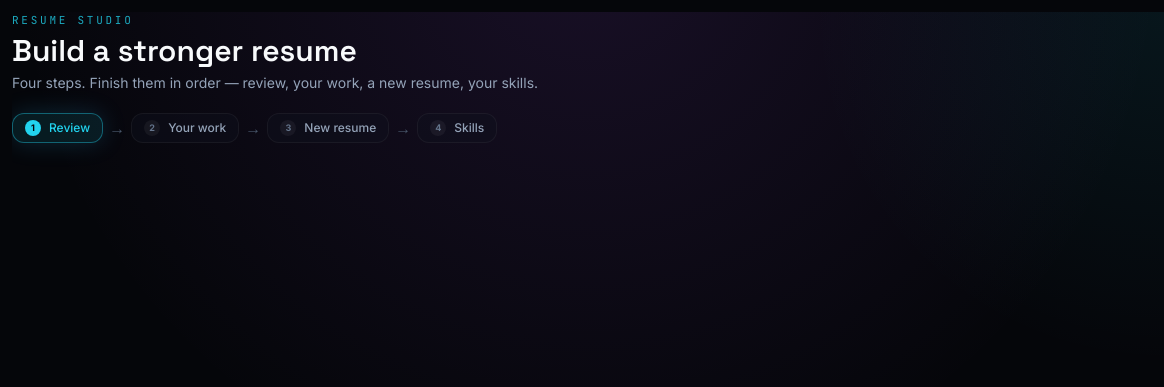
ResumePage › navigates to the skills tab
Click the button "4 Skills": {"x": 457, "y": 128} [417,112,497,142]
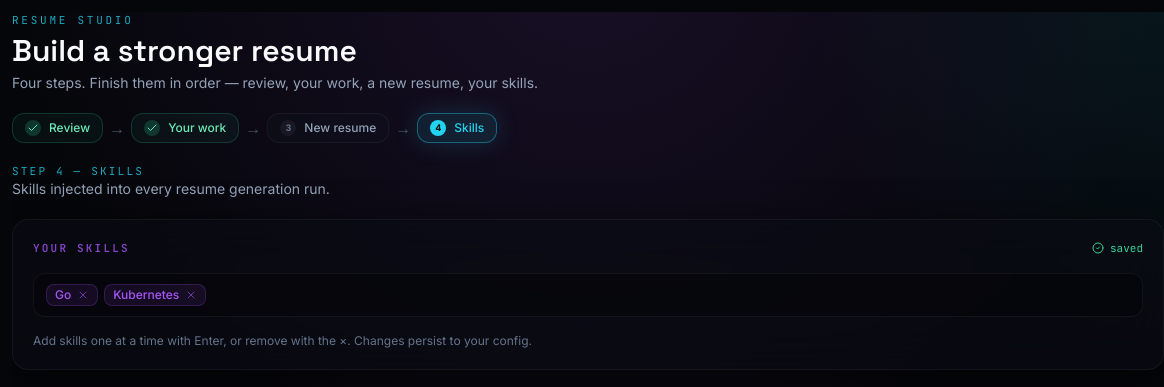
Now the text "Step 4 — Skills" is shown, box [12,164,144,178]
Now the text "Kubernetes" is shown, box [104,284,206,306]
